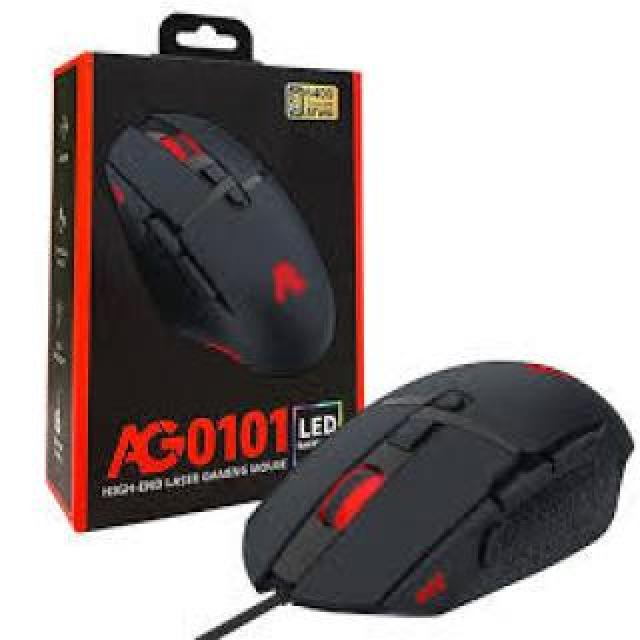mouse: (195, 325, 632, 617)
